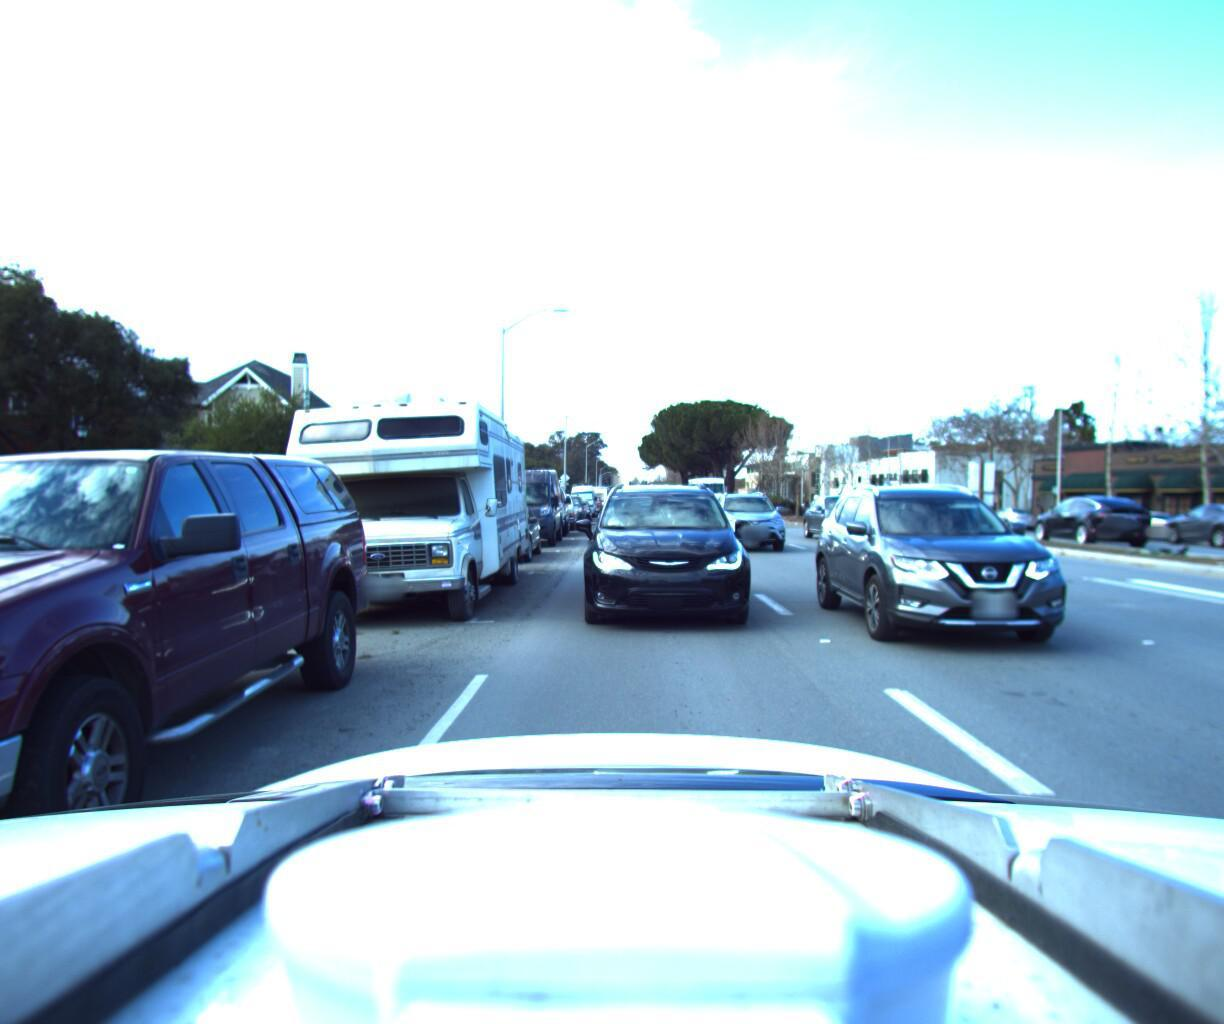bus: (274, 357, 532, 633)
car: (0, 360, 402, 1024), (806, 463, 1126, 669), (577, 469, 770, 646), (1013, 485, 1144, 542), (479, 457, 562, 545), (703, 481, 797, 551), (443, 494, 542, 559), (1142, 493, 1224, 544), (509, 470, 571, 533), (790, 490, 868, 537), (1100, 502, 1198, 539), (529, 482, 577, 525), (983, 500, 1040, 525), (545, 487, 585, 522), (562, 475, 597, 514), (559, 491, 593, 519)
truck: (681, 470, 726, 511)
